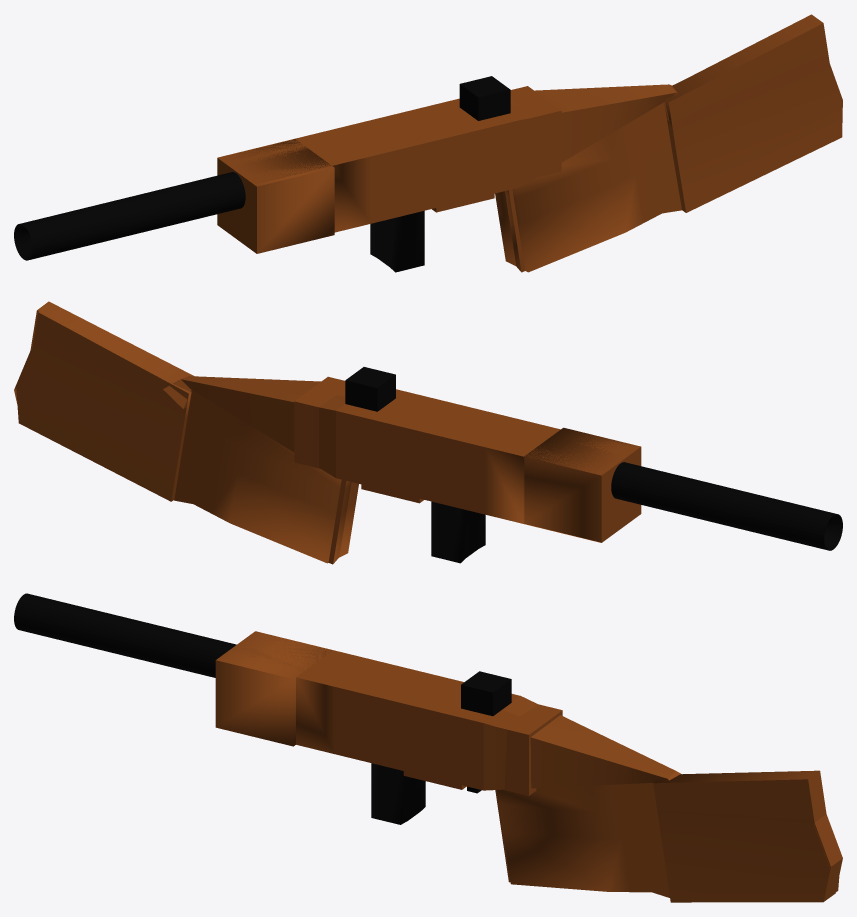
Rendered from Carbine.fbx.
The picture shows the model from 3 angles, top to bottom: view 1: azimuth 30°, elevation 25°; view 2: azimuth 150°, elevation 25°; view 3: azimuth 330°, elevation 25°; orthographic projection.
Visible parts, largest first — view 1: Cube, Cylinder, Cube.001; view 2: Cube, Cylinder, Cube.001; view 3: Cube, Cylinder, Cube.001.
Part boxes in pixels (x1=…): Cube: x1=217, y1=14, x2=842, y2=272; Cylinder: x1=14, y1=172, x2=245, y2=260; Cube.001: x1=510, y1=86, x2=561, y2=177; Cube: x1=14, y1=301, x2=641, y2=564; Cylinder: x1=611, y1=462, x2=842, y2=550; Cube.001: x1=294, y1=376, x2=345, y2=468; Cube: x1=215, y1=631, x2=842, y2=902; Cylinder: x1=14, y1=593, x2=236, y2=677; Cube.001: x1=484, y1=704, x2=562, y2=795.
Bounding box in the file's own units: 785 × 173 × 66.28.
